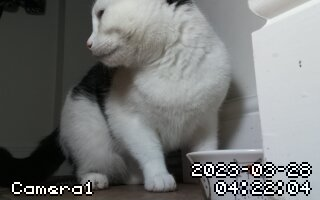bad: (23, 3, 237, 190)
